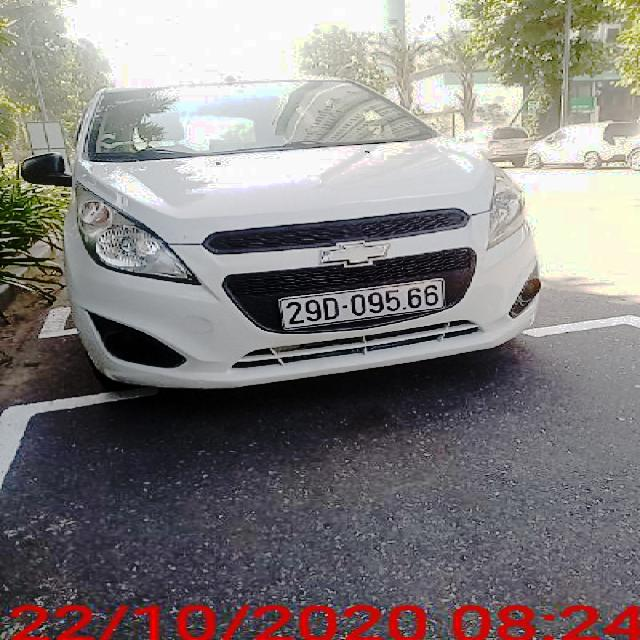license_plate: (275, 281, 449, 332)
